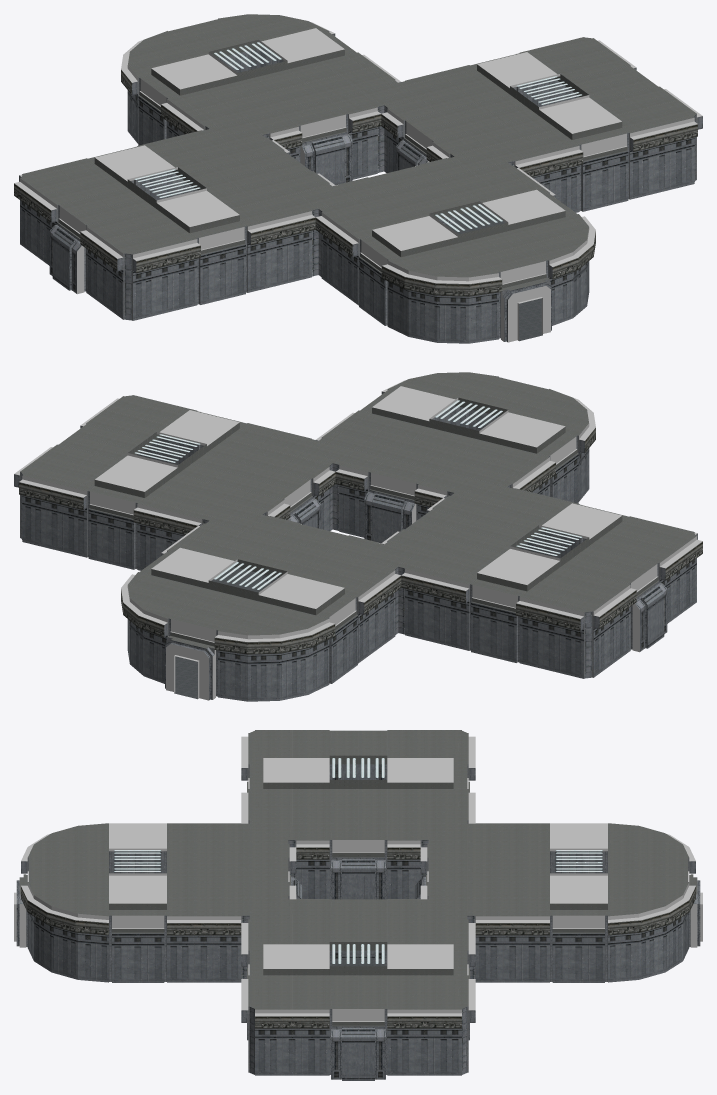
The model's file is poi_all_impl_bunker_warren_s01_r31_plusroom31_mesh_r31.fbx.
3 views of the same model, one above another, from view 1: azimuth 30°, elevation 25°; view 2: azimuth 150°, elevation 25°; view 3: azimuth 270°, elevation 25° (orthographic).
Parts seen in each view (by area): view 1: mesh_node; view 2: mesh_node; view 3: mesh_node.
Boxes of the visible parts, left/top/right/bottom form: mesh_node: left=14, top=14, right=702, bottom=343; mesh_node: left=14, top=372, right=702, bottom=701; mesh_node: left=14, top=730, right=702, bottom=1080.
Size of the model in its own units: 49.8 by 6 by 50.
